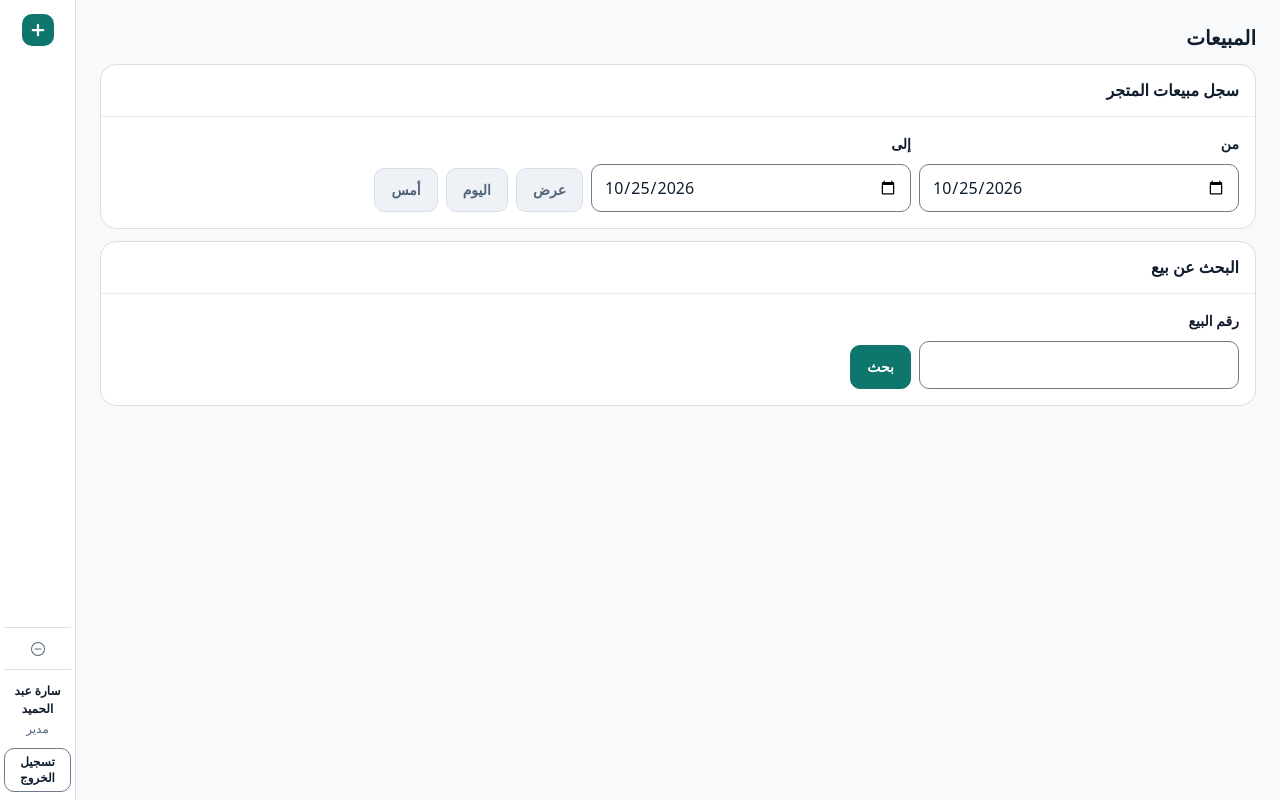
Test: OneFrameProof — the Sales fakes (RT-500) › sale=found shows the sale, and reprint=ok shows the sent notice
In the field labelled "رقم البيع": (1079, 364) top-left (919, 340), bottom-right (1239, 388), type "TERM-01-2026-10-15-000042"
Then press Enter
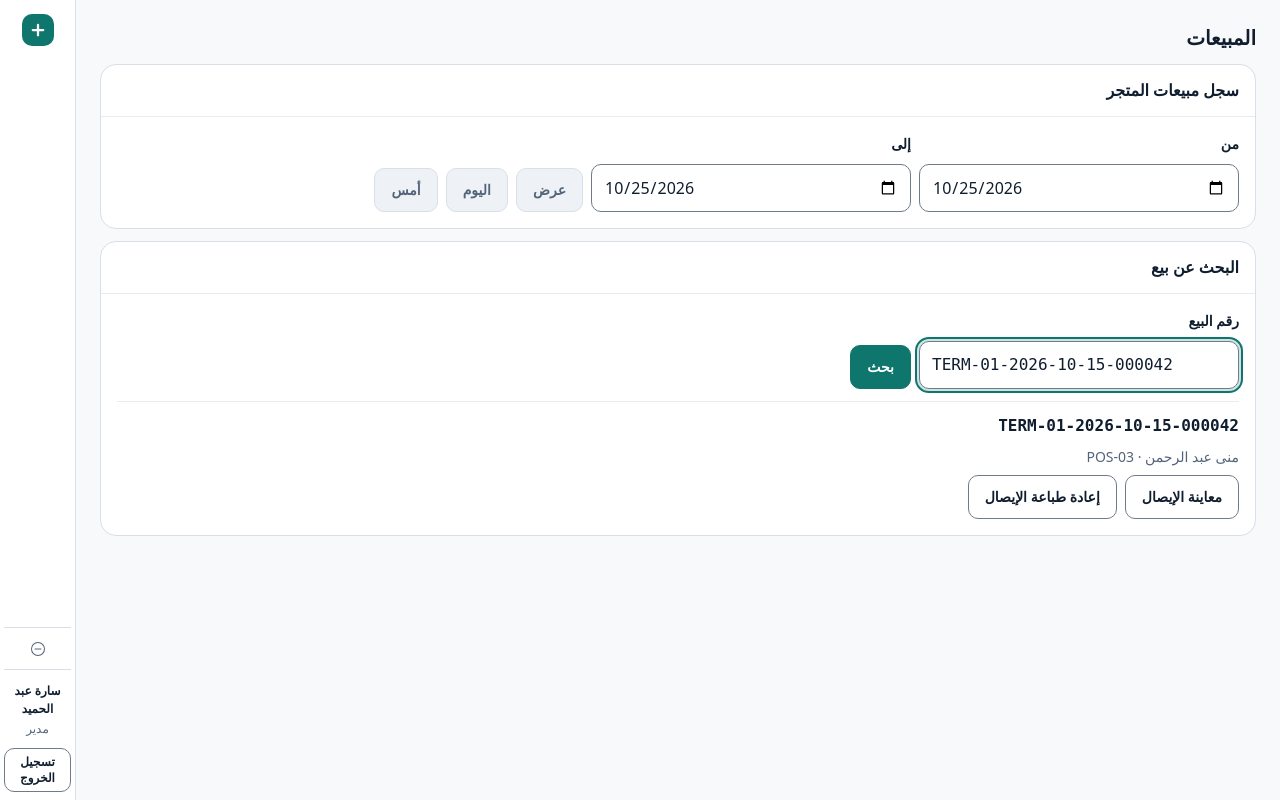
Expected: the text "منى عبد الرحمن" is shown, top-left (1145, 446), bottom-right (1239, 466)
Click the button "إعادة طباعة الإيصال": (1042, 496) top-left (968, 474), bottom-right (1117, 518)
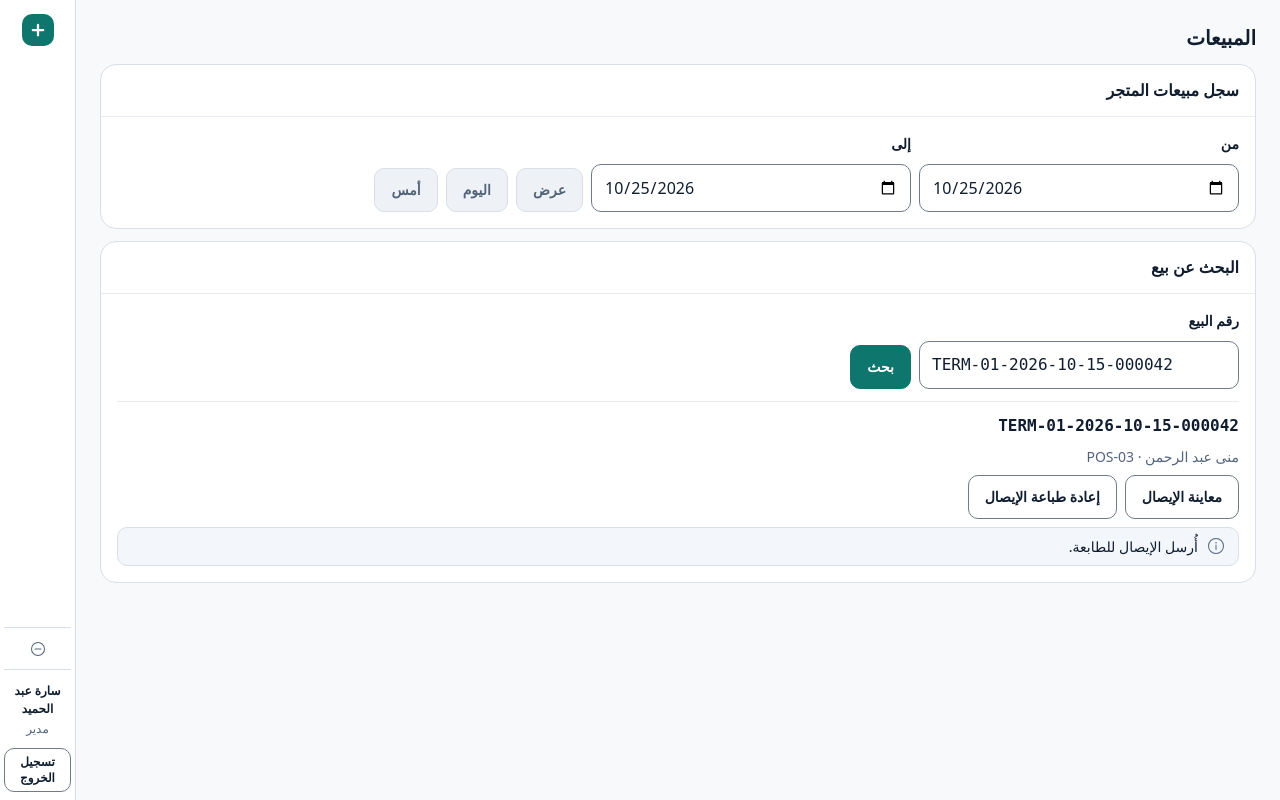
Expected: the text "أُرسل الإيصال للطابعة." is shown, top-left (1069, 536), bottom-right (1198, 556)
